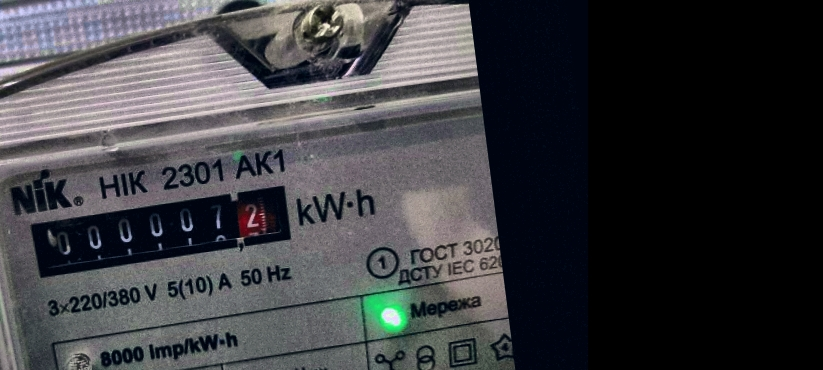0: (144, 209, 165, 238), (52, 227, 72, 256), (83, 221, 103, 250), (114, 214, 133, 244), (176, 205, 194, 234)
2: (241, 201, 260, 229)
7: (207, 200, 225, 231)
screen: (17, 177, 303, 284)
